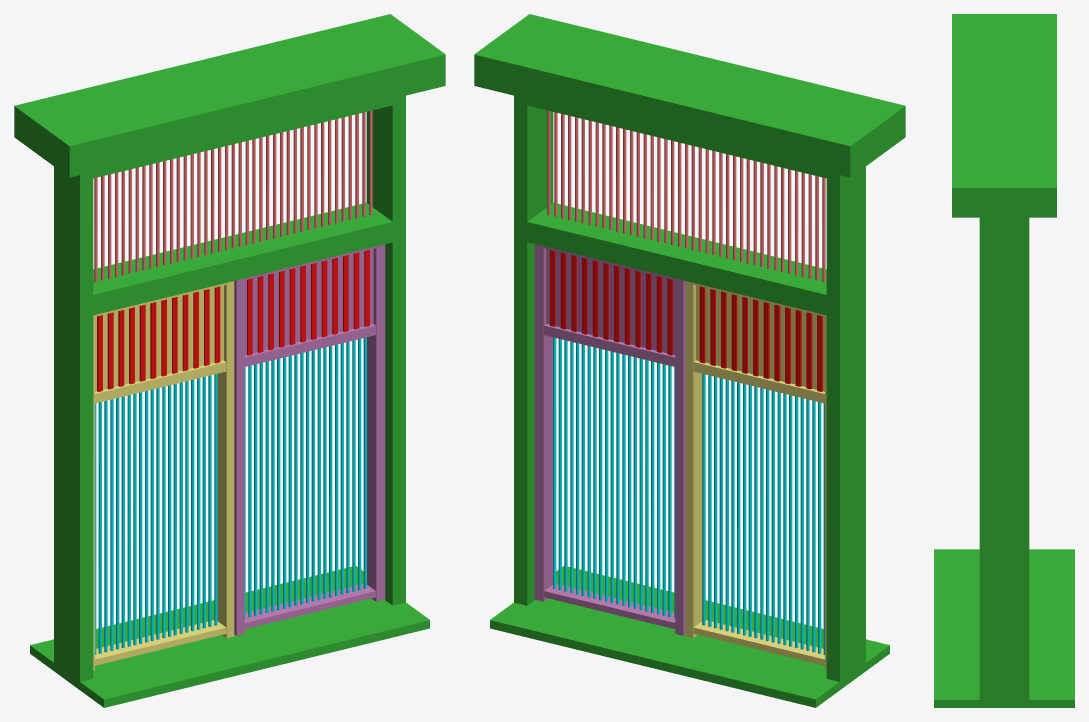
File: Door.FBX
3 views of the same model, side by side, from view 1: azimuth 30°, elevation 25°; view 2: azimuth 150°, elevation 25°; view 3: azimuth 270°, elevation 25° (orthographic). The views are drawn at different scales.
Visible parts, largest first — view 1: Box001, Box018, Box003, Cylinder046 (×2), Cylinder037 (×2), Cylinder038 (×2), Cylinder043 (×2), Cylinder036 (×2), Cylinder040 (×2), Cylinder041 (×2), Cylinder042 (×2), Cylinder045 (×2) (+21 smaller); view 2: Box001, Box018, Box003, Cylinder046 (×2), Cylinder037 (×2), Cylinder038 (×2), Cylinder043 (×2), Cylinder036 (×2), Cylinder040 (×2), Cylinder041 (×2), Cylinder042 (×2), Cylinder045 (×2) (+21 smaller); view 3: Box001.
Boxes of the visible parts, x1,y1,x2,y2 form: Box001: [14, 14, 445, 707]; Box018: [234, 244, 385, 635]; Box003: [93, 281, 234, 670]; Cylinder046 (×2): [214, 353, 303, 625]; Cylinder037 (×2): [162, 340, 355, 638]; Cylinder038 (×2): [168, 341, 349, 636]; Cylinder043 (×2): [197, 348, 320, 629]; Cylinder036 (×2): [156, 339, 361, 639]; Cylinder040 (×2): [179, 344, 338, 633]; Cylinder041 (×2): [185, 346, 332, 632]; Cylinder042 (×2): [191, 347, 326, 631]; Cylinder045 (×2): [208, 351, 309, 626]; Box001: [474, 14, 905, 707]; Box018: [534, 244, 685, 635]; Box003: [685, 281, 826, 670]; Cylinder046 (×2): [616, 353, 705, 625]; Cylinder037 (×2): [564, 340, 757, 638]; Cylinder038 (×2): [570, 341, 751, 636]; Cylinder043 (×2): [599, 348, 722, 629]; Cylinder036 (×2): [558, 339, 763, 639]; Cylinder040 (×2): [581, 344, 740, 633]; Cylinder041 (×2): [587, 346, 734, 632]; Cylinder042 (×2): [593, 347, 728, 631]; Cylinder045 (×2): [610, 351, 711, 626]; Box001: [934, 14, 1074, 707].
Size of the model in its own units: 90.91 by 129 by 31.08.
